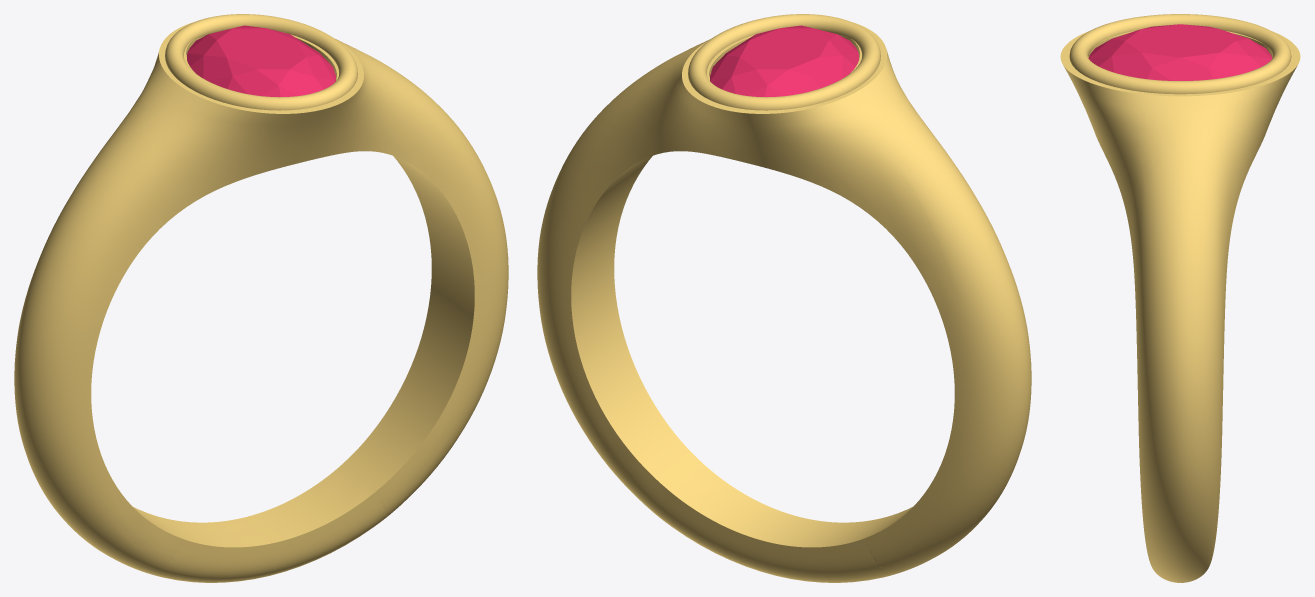
3 views of the same model, side by side, from view 1: azimuth 30°, elevation 25°; view 2: azimuth 150°, elevation 25°; view 3: azimuth 270°, elevation 25° (orthographic).
Parts seen in each view (by area): view 1: CP v2, Caroline Platt ruby for 3d model; view 2: CP v2, Caroline Platt ruby for 3d model; view 3: CP v2, Caroline Platt ruby for 3d model.
Boxes of the visible parts, left/top/right/bottom form: CP v2: left=14, top=14, right=508, bottom=582; Caroline Platt ruby for 3d model: left=187, top=25, right=335, bottom=97; CP v2: left=537, top=14, right=1031, bottom=582; Caroline Platt ruby for 3d model: left=710, top=25, right=858, bottom=97; CP v2: left=1060, top=14, right=1300, bottom=582; Caroline Platt ruby for 3d model: left=1088, top=24, right=1272, bottom=80.
Bounding box in the file's own units: 20.9 × 21.56 × 9.1.
